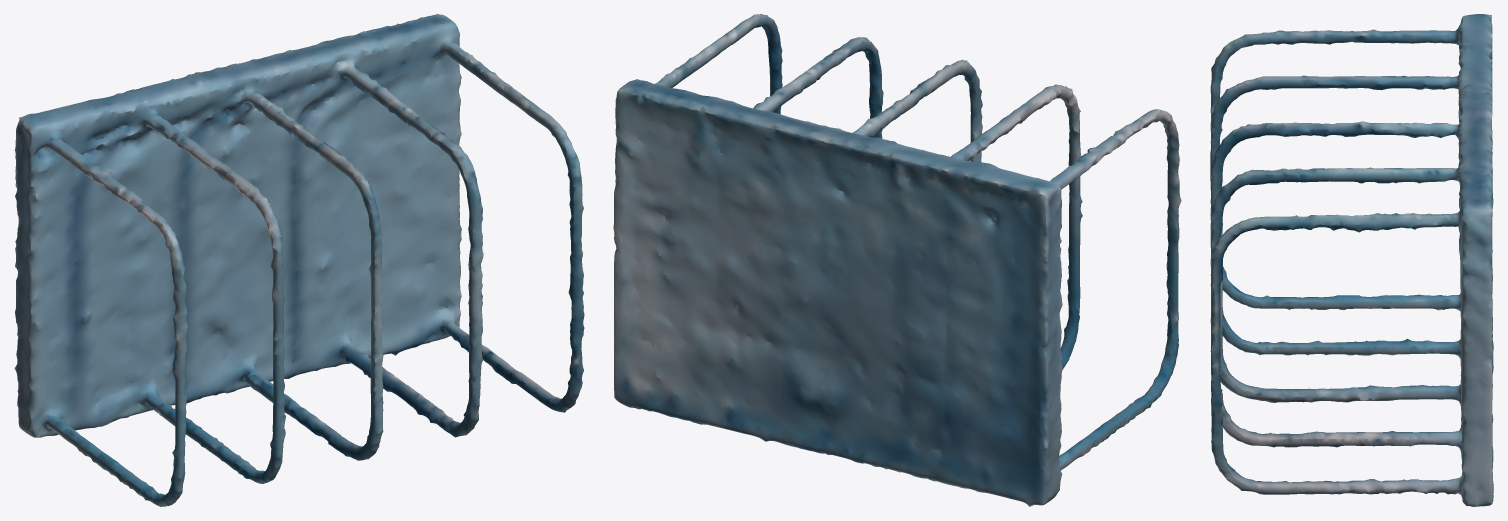
The model's file is sorter.glb.
3 views of the same model, side by side, from view 1: azimuth 30°, elevation 25°; view 2: azimuth 150°, elevation 25°; view 3: azimuth 270°, elevation 25° (orthographic). The views are drawn at different scales.
Size of the model in its own units: 0.9952 by 0.7058 by 0.5938.
